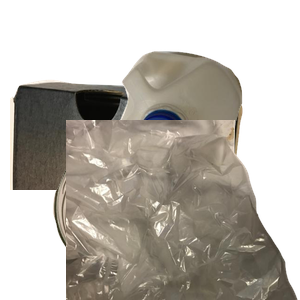cardboard: (10, 77, 245, 257)
glass: (50, 131, 252, 300)
plastic: (108, 49, 300, 226)
trash: (66, 120, 300, 300)
